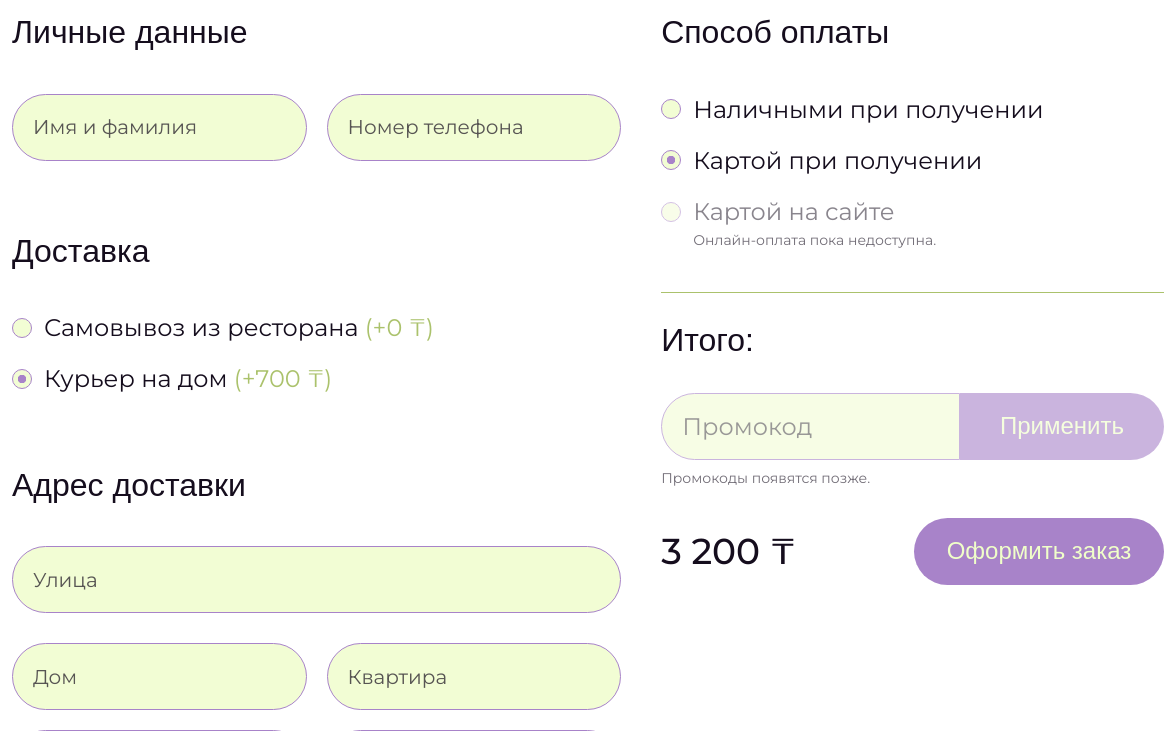
Test case: CheckoutForm: успешная отправка › смена доставки тоже скрывает уведомление
Expected: the button "Оформить заказ" is enabled, [914,518,1164,585]
Type "Иван Петров" into the field labelled "Имя и фамилия" at (159, 127), box [12,94,307,161]
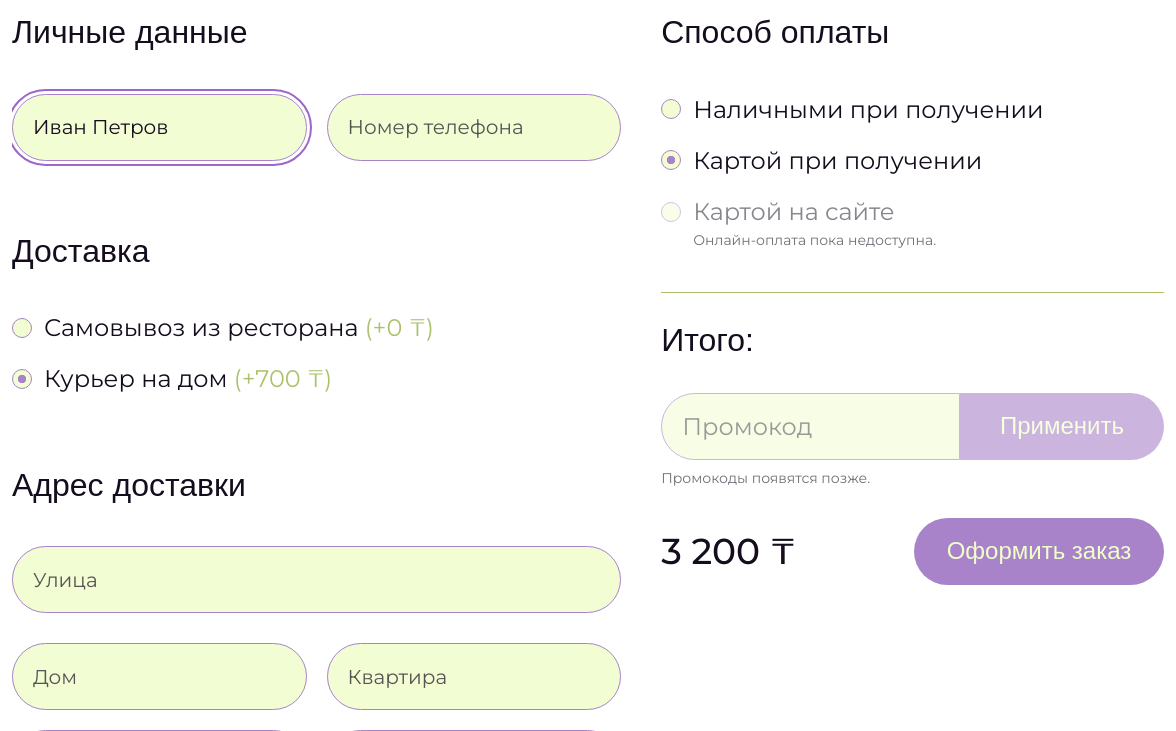
Type "+380501234567" into the field labelled "Номер телефона" at (474, 127), box [327,94,621,161]
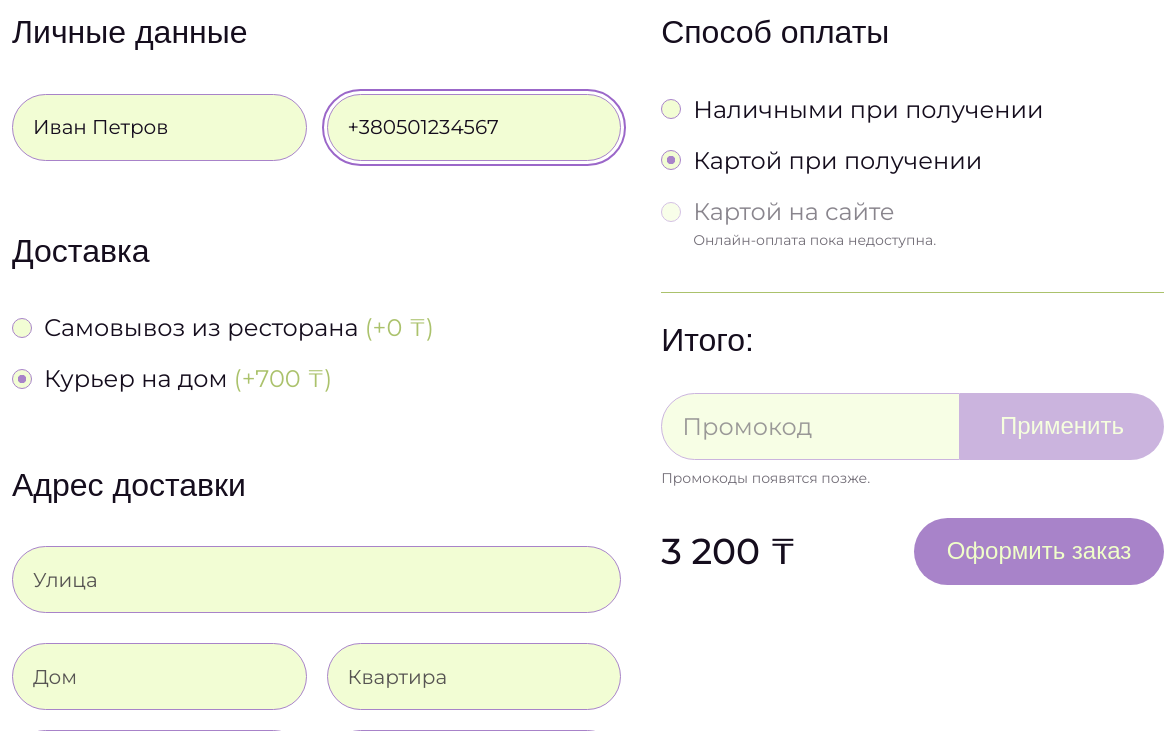
Click the radio button labelled "Самовывоз из ресторана (+0 ₸)" at (22, 328), box [12,318,32,338]
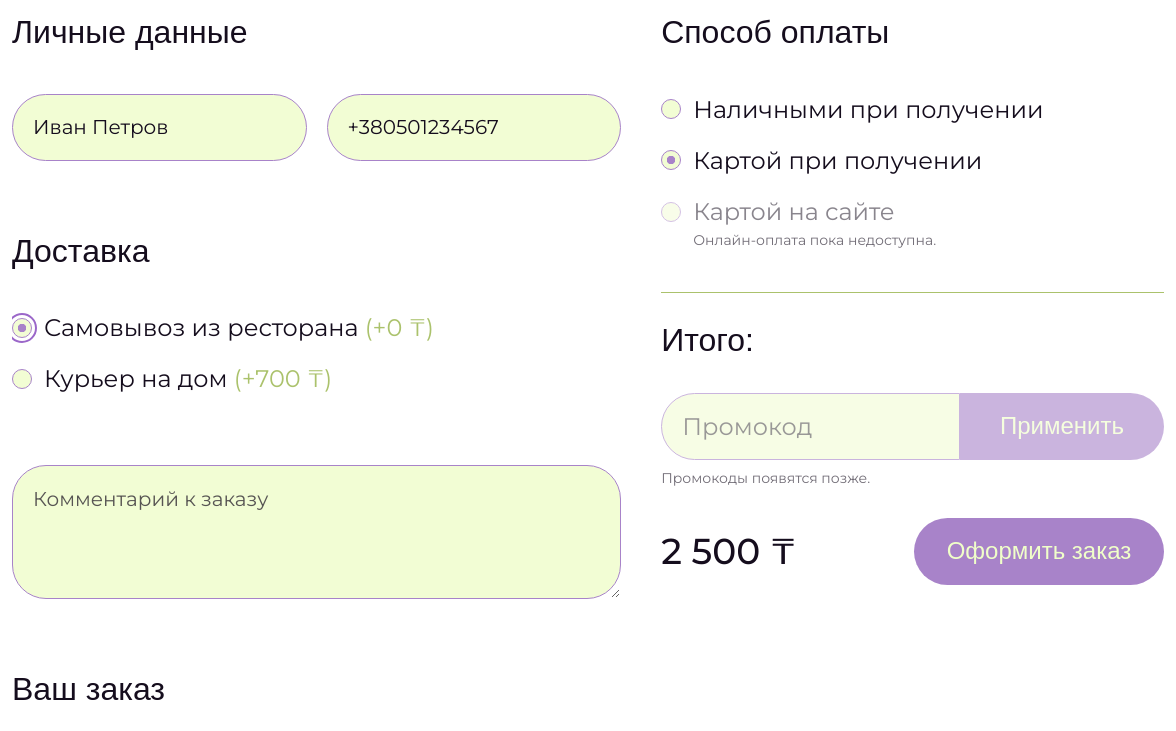
Click the button "Оформить заказ" at (1039, 551), box [914,518,1164,585]
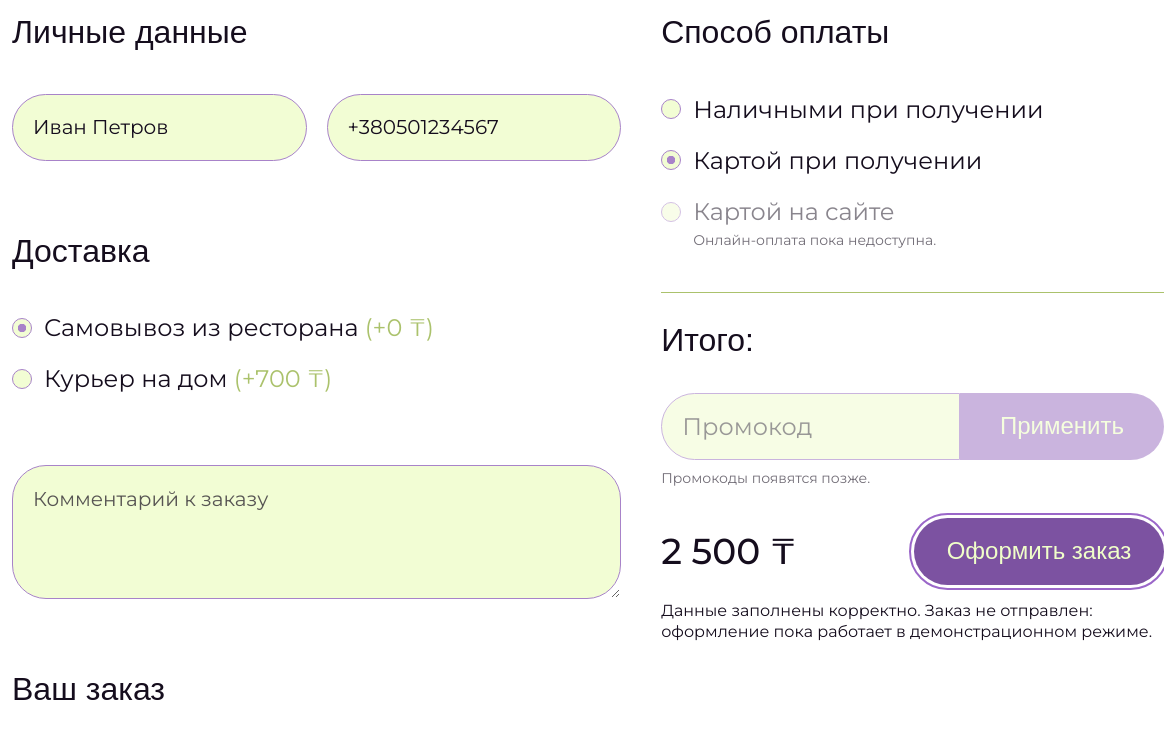
Result: the text "Данные заполнены корректно" is shown at [661,601,1152,641]
Click the radio button labelled "Курьер на дом (+700 ₸)" at (22, 379), box [12,369,32,389]
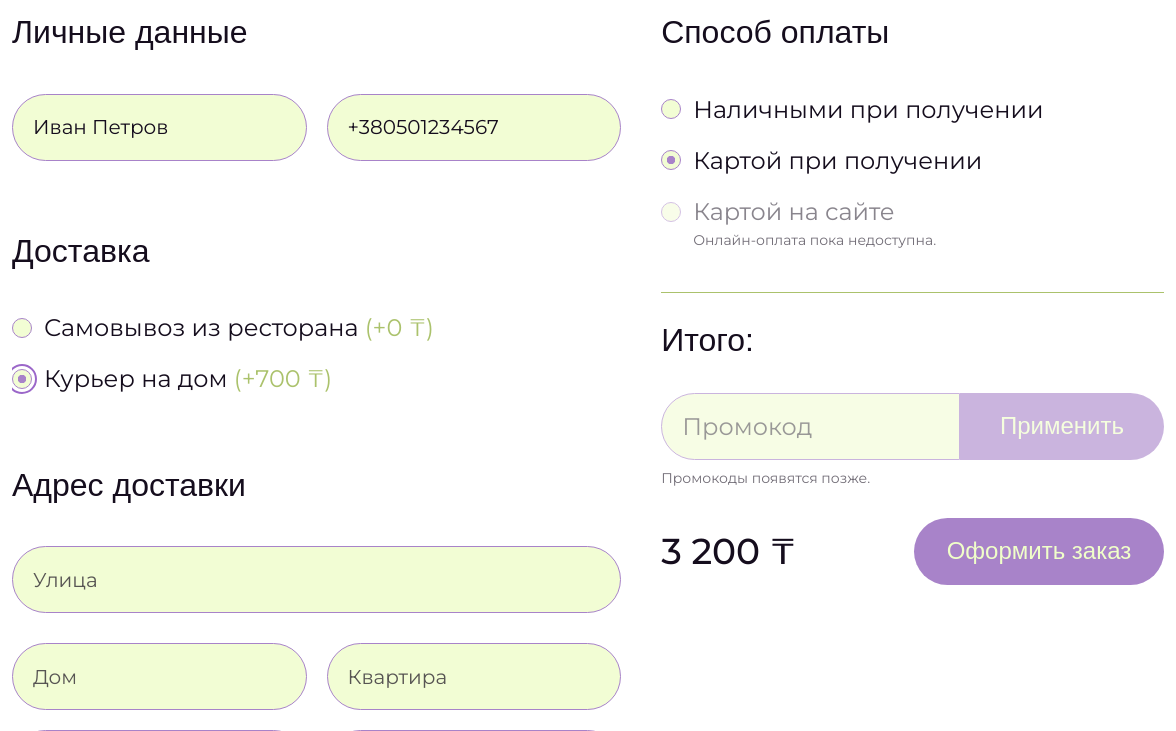
Result: the text "Данные заполнены корректно" is gone
